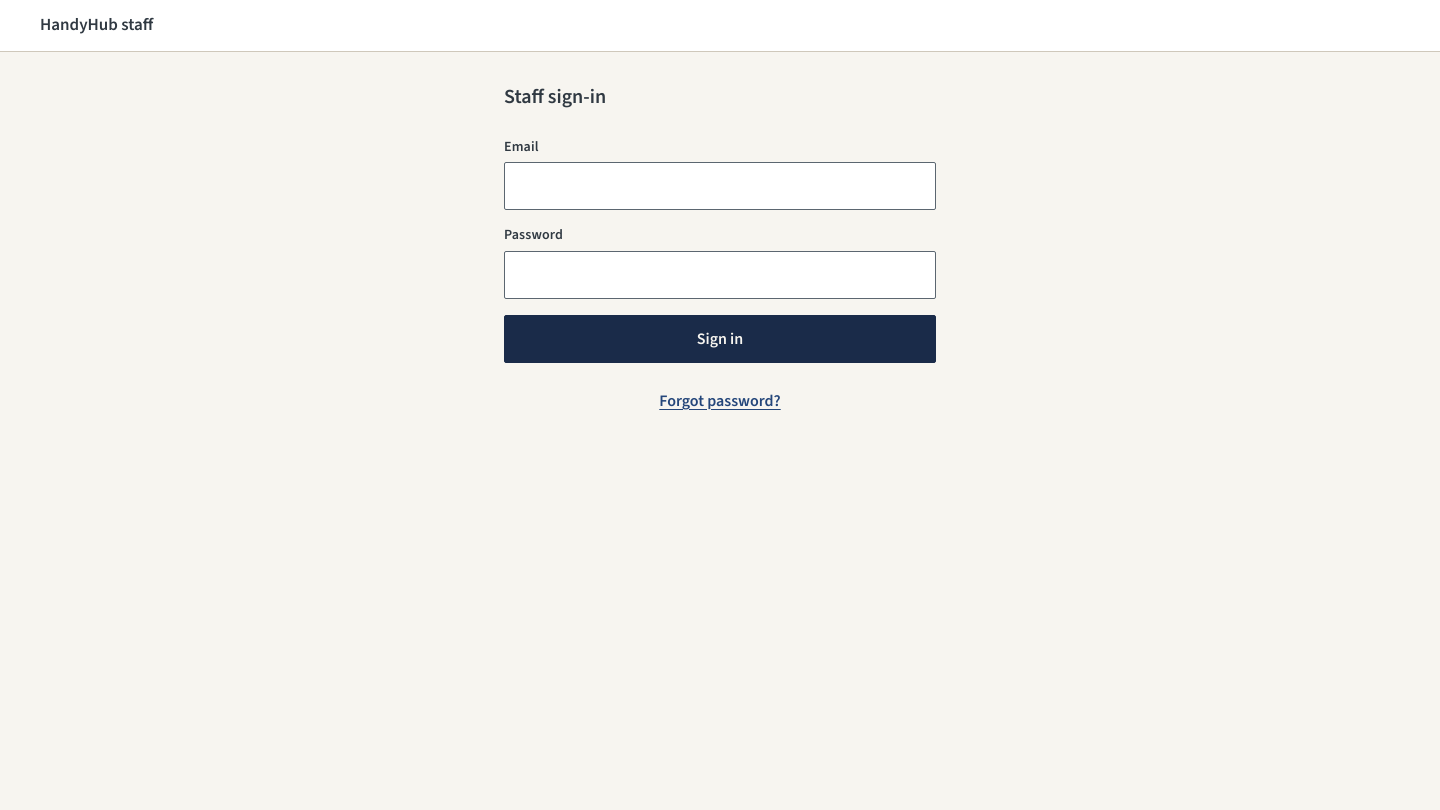
Test: mandatory MFA and CSRF in the staff app (TSK-0015, TSK-0154, HH-STAFF-01, HH-SEC-02) › [HH-SEC-02] says so when the server refuses sign-in because the MFA key is NOT CONFIGURED (fail closed)
Step 1. Type "owner@example.test" into the field labelled "Email" → (720, 186), box [504,162,936,210]
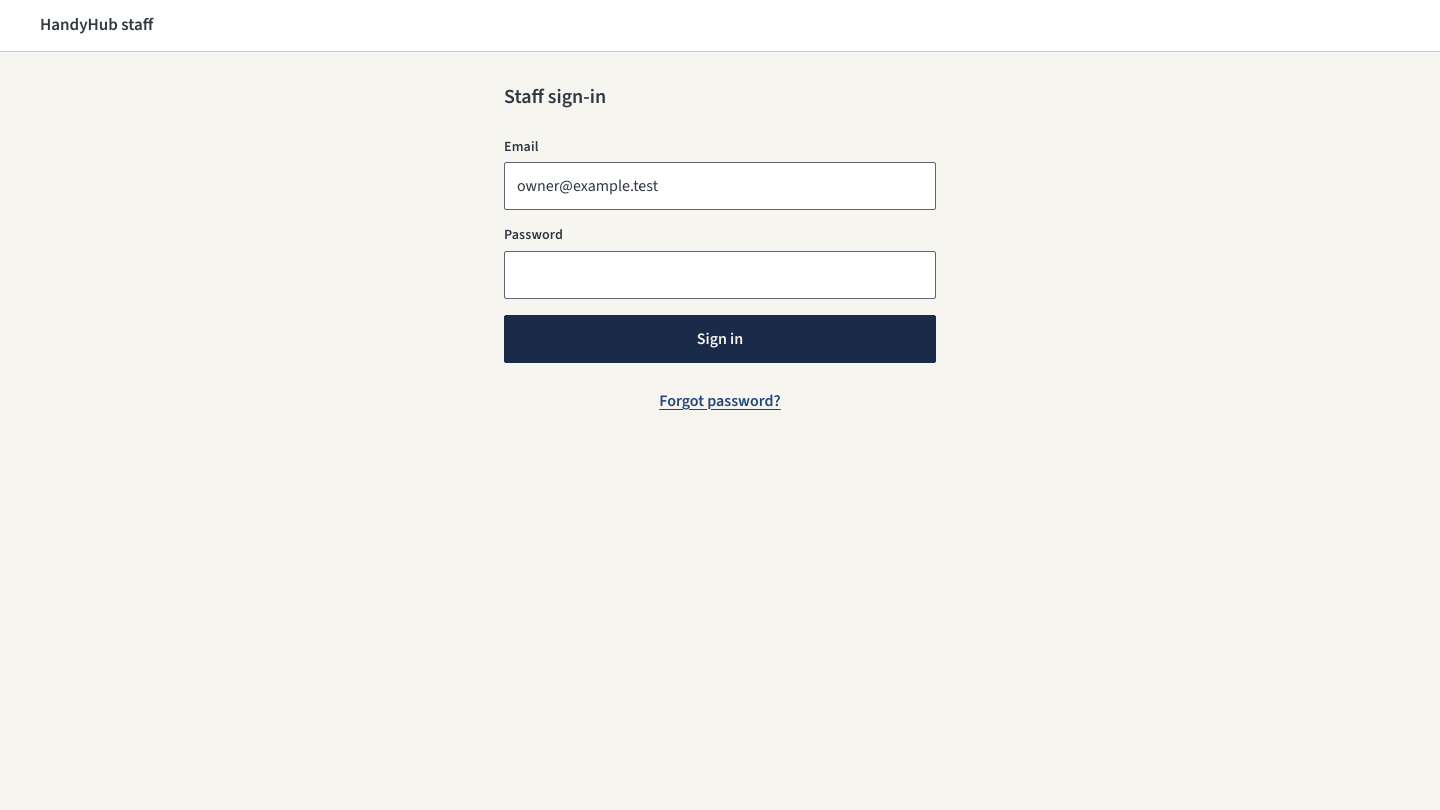
Step 2. Type "a long enough passphrase" into the password field labelled "Password" → (720, 275), box [504,251,936,299]
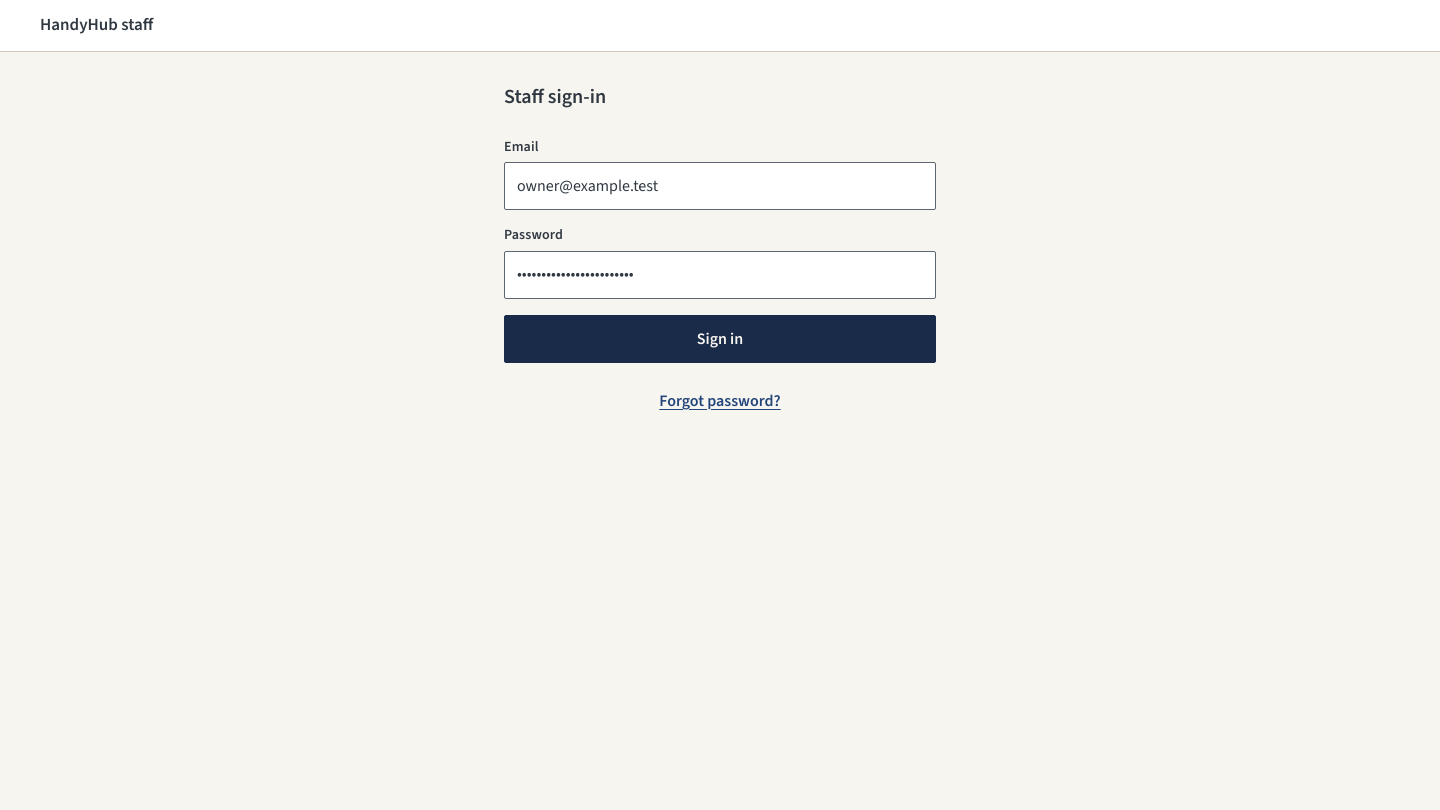
Step 3. Click the button "Sign in" → (720, 339), box [504,315,936,363]
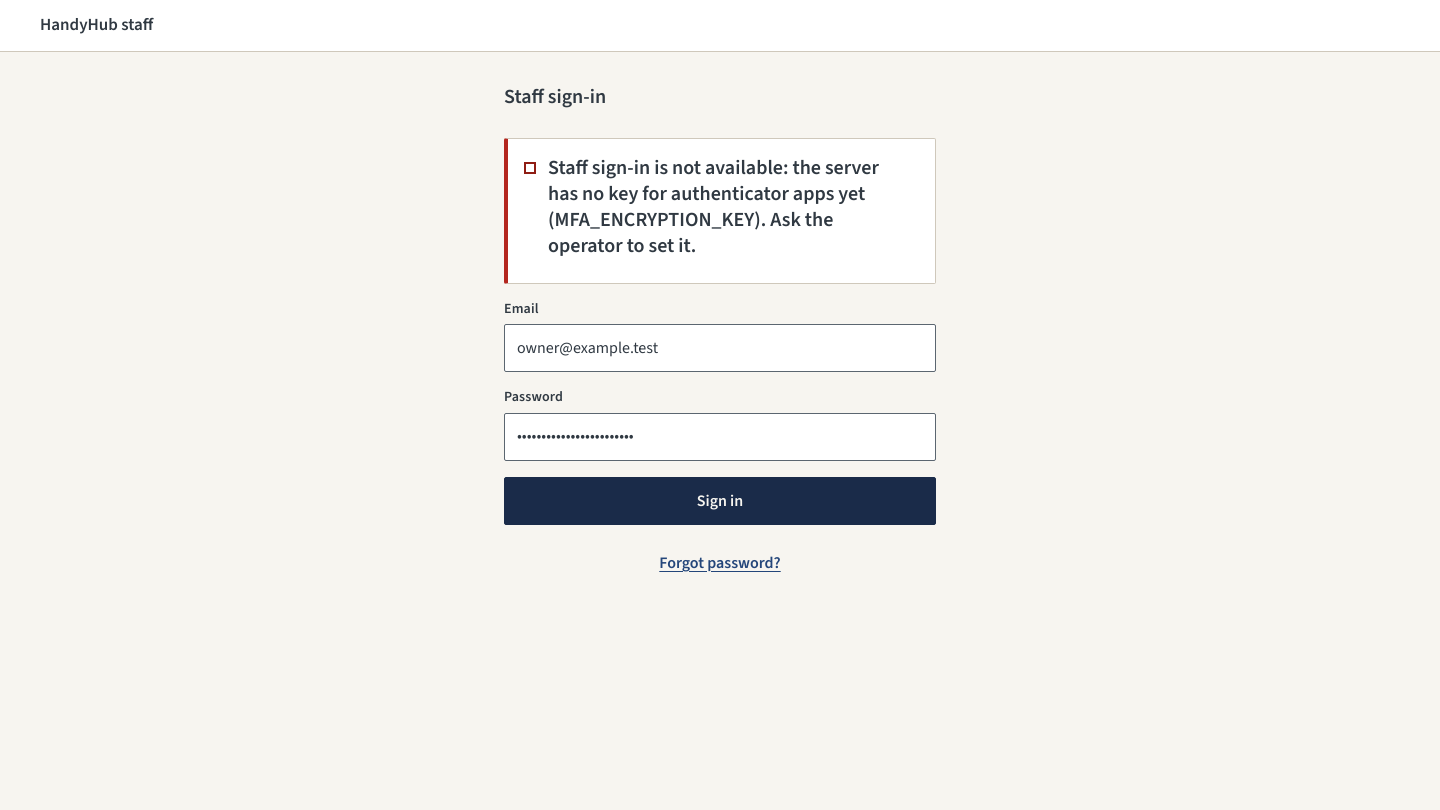
Expected: the text "MFA_ENCRYPTION_KEY" is shown, [548,154,879,260]
